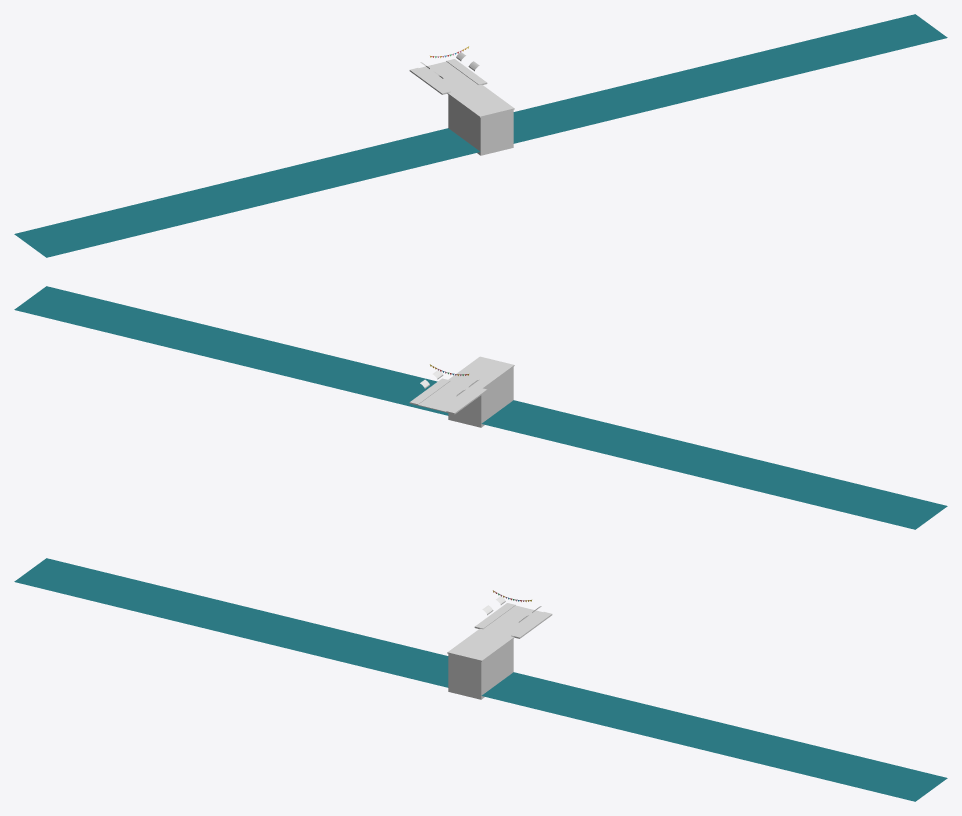
The model's file is Harita_14_Gecis_Sur_Mahalle_Ozel.fbx.
The picture shows the model from 3 angles, top to bottom: view 1: azimuth 30°, elevation 25°; view 2: azimuth 150°, elevation 25°; view 3: azimuth 330°, elevation 25°; orthographic projection.
Visible parts, largest first — view 1: Harita_14_Deniz.001, Harita_14_Sur_Govde.001, Harita_14_Sur_Ustu_Yol.001, Harita_14_Yol.001; view 2: Harita_14_Deniz.001, Harita_14_Sur_Govde.001, Harita_14_Sur_Ustu_Yol.001, Harita_14_Yol.001; view 3: Harita_14_Deniz.001, Harita_14_Sur_Govde.001, Harita_14_Sur_Ustu_Yol.001, Harita_14_Yol.001.
Part boxes in pixels (x1=…): Harita_14_Deniz.001: x1=14, y1=14, x2=947, y2=257; Harita_14_Sur_Govde.001: x1=448, y1=95, x2=513, y2=155; Harita_14_Sur_Ustu_Yol.001: x1=447, y1=84, x2=514, y2=117; Harita_14_Yol.001: x1=419, y1=61, x2=478, y2=91; Harita_14_Deniz.001: x1=14, y1=286, x2=947, y2=529; Harita_14_Sur_Govde.001: x1=448, y1=367, x2=513, y2=427; Harita_14_Sur_Ustu_Yol.001: x1=448, y1=356, x2=514, y2=388; Harita_14_Yol.001: x1=418, y1=381, x2=477, y2=412; Harita_14_Deniz.001: x1=14, y1=558, x2=947, y2=801; Harita_14_Sur_Govde.001: x1=448, y1=639, x2=513, y2=699; Harita_14_Sur_Ustu_Yol.001: x1=447, y1=628, x2=514, y2=661; Harita_14_Yol.001: x1=483, y1=605, x2=542, y2=635.
Size of the model in its own units: 240 by 16.8 by 30.
